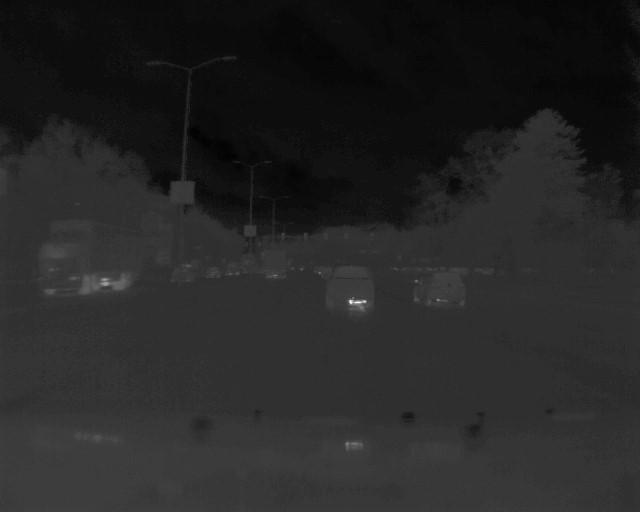car: (38, 218, 146, 298), (324, 267, 380, 317), (409, 270, 470, 308)
